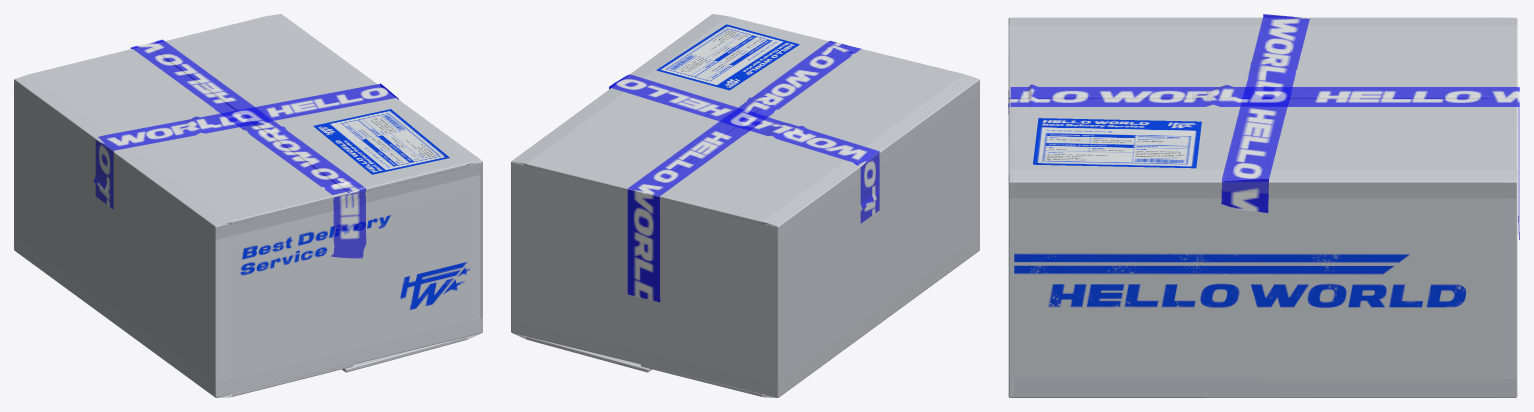
The model's file is helloworld_Box_Web exact.glb.
The picture shows the model from 3 angles, left to right: view 1: azimuth 30°, elevation 25°; view 2: azimuth 150°, elevation 25°; view 3: azimuth 270°, elevation 25°; orthographic projection. The views are drawn at different scales.
Parts seen in each view (by area): view 1: Cube, HelloWorld_Tape.002, HelloWorld_Tape.001, Waybill_Horizontal, HelloWorld_Tape.003, HelloWorld_Tape.006; view 2: Cube, HelloWorld_Tape.002, HelloWorld_Tape.001, Waybill_Horizontal, HelloWorld_Tape.004, HelloWorld_Tape.006; view 3: Cube, HelloWorld_Tape.002, HelloWorld_Tape.001, Waybill_Horizontal, HelloWorld_Tape.005.
Part boxes in pixels (bbox=[...]): Cube: bbox=[14, 14, 482, 397]; HelloWorld_Tape.002: bbox=[131, 39, 363, 194]; HelloWorld_Tape.001: bbox=[98, 84, 398, 150]; Waybill_Horizontal: bbox=[313, 109, 449, 174]; HelloWorld_Tape.003: bbox=[331, 188, 366, 258]; HelloWorld_Tape.006: bbox=[93, 140, 113, 209]; Cube: bbox=[511, 14, 979, 397]; HelloWorld_Tape.002: bbox=[628, 41, 860, 196]; HelloWorld_Tape.001: bbox=[609, 74, 878, 167]; Waybill_Horizontal: bbox=[656, 24, 799, 90]; HelloWorld_Tape.004: bbox=[627, 189, 660, 302]; HelloWorld_Tape.006: bbox=[860, 151, 879, 222]; Cube: bbox=[1008, 17, 1517, 397]; HelloWorld_Tape.002: bbox=[1010, 84, 1519, 106]; HelloWorld_Tape.001: bbox=[1222, 15, 1310, 181]; Waybill_Horizontal: bbox=[1033, 118, 1201, 168]; HelloWorld_Tape.005: bbox=[1221, 179, 1268, 212].
Size of the model in its own units: 2.03 by 1.31 by 2.63.
Materials: 5 (4 with a texture image).
